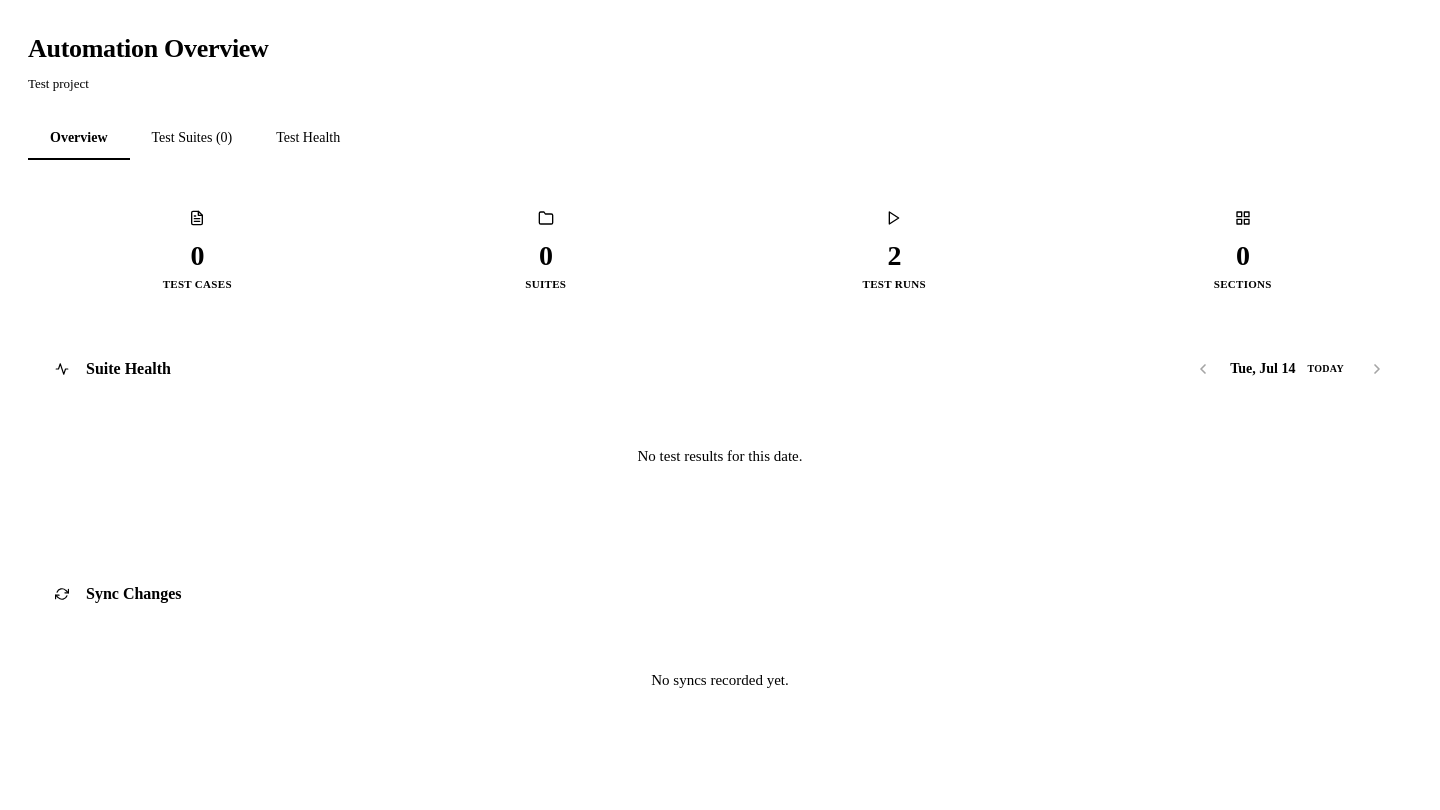
Test: ProjectDetailPage › Suites tab › shows empty message when no suites exist
Click the tab "Test Suites (0)".
click(192, 139)  # box [130,118,254,160]
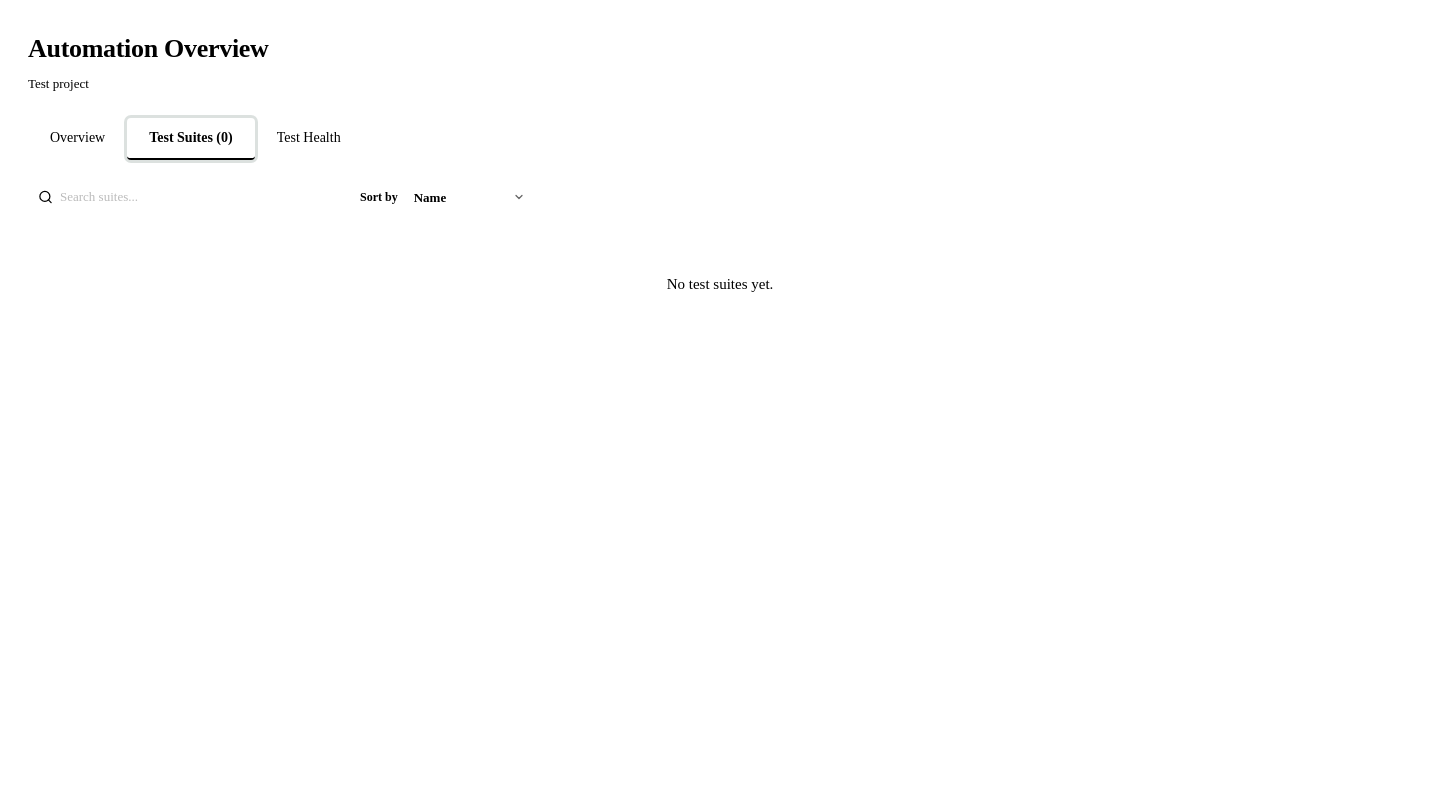
Now the text "No test suites yet." is shown, box [667,276,773,292]
